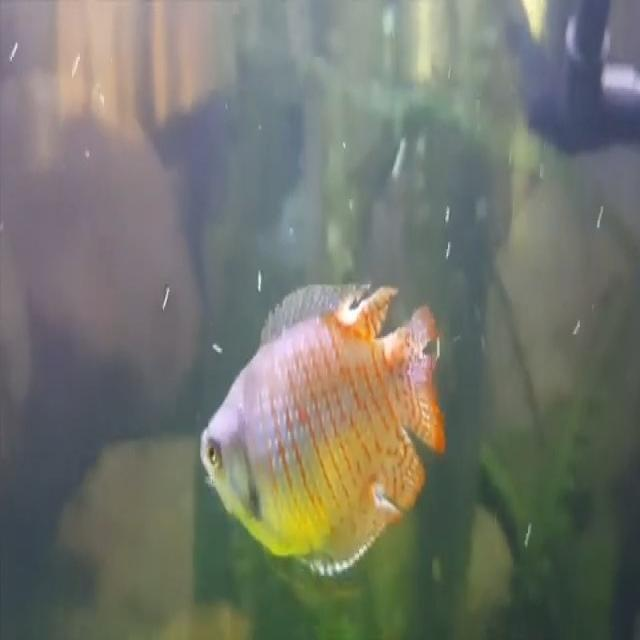fish: (199, 279, 449, 579)
